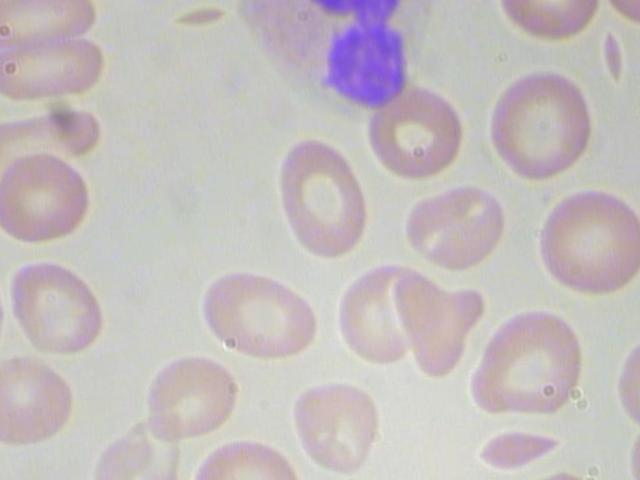RBC: (183, 250, 337, 378), (452, 299, 593, 427), (473, 59, 606, 190), (517, 181, 640, 307), (267, 129, 375, 271), (0, 238, 118, 366), (352, 78, 476, 188), (282, 367, 401, 480), (395, 173, 514, 282), (0, 133, 100, 261), (483, 0, 607, 60), (0, 0, 102, 52), (211, 0, 455, 10), (0, 255, 16, 383)
WBC: (128, 327, 248, 454)
